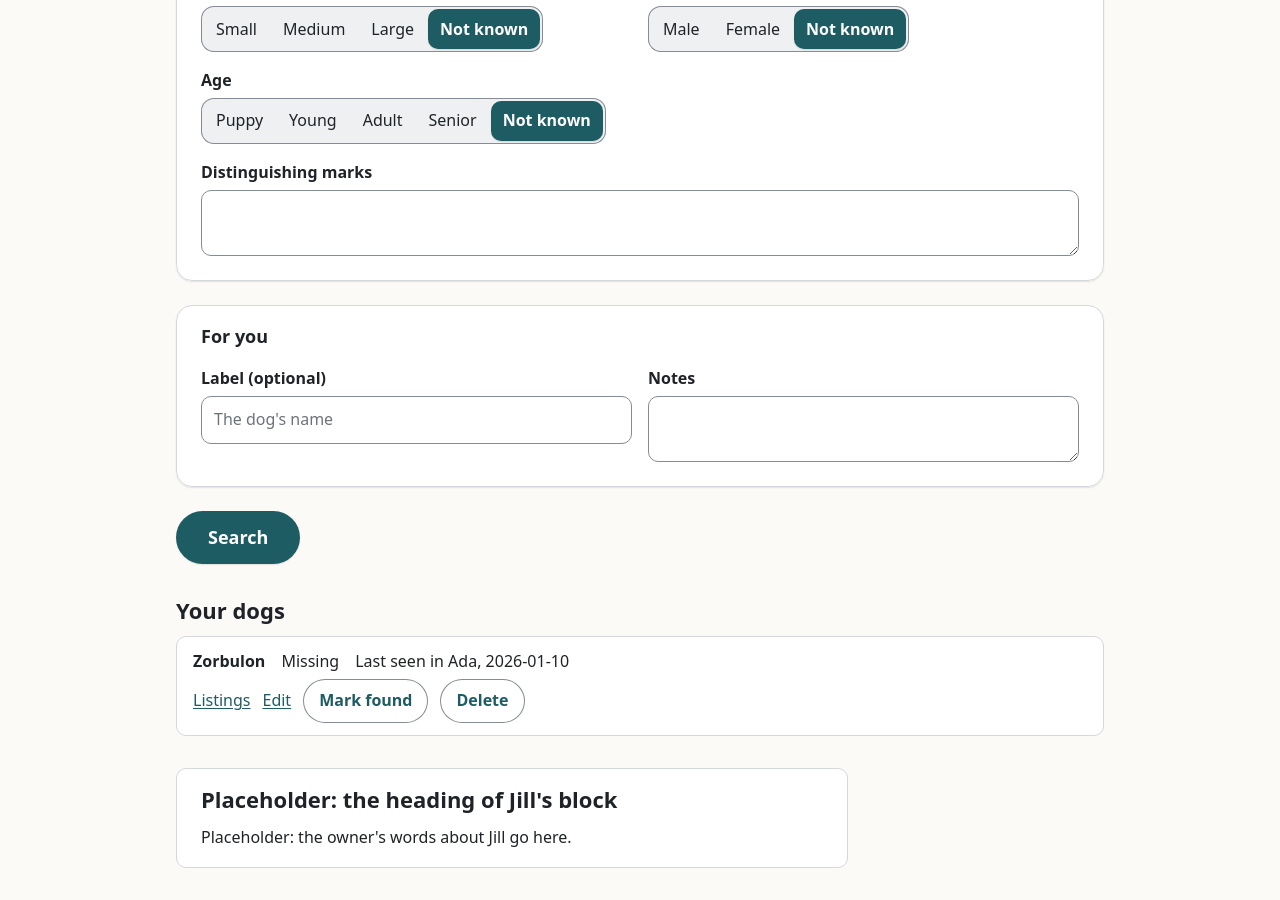
Test: Find a dog › lists missing and found dogs, and marks one found
(page scrolled)
Click the button "Mark found" at (366,701), box [303,679,428,723]
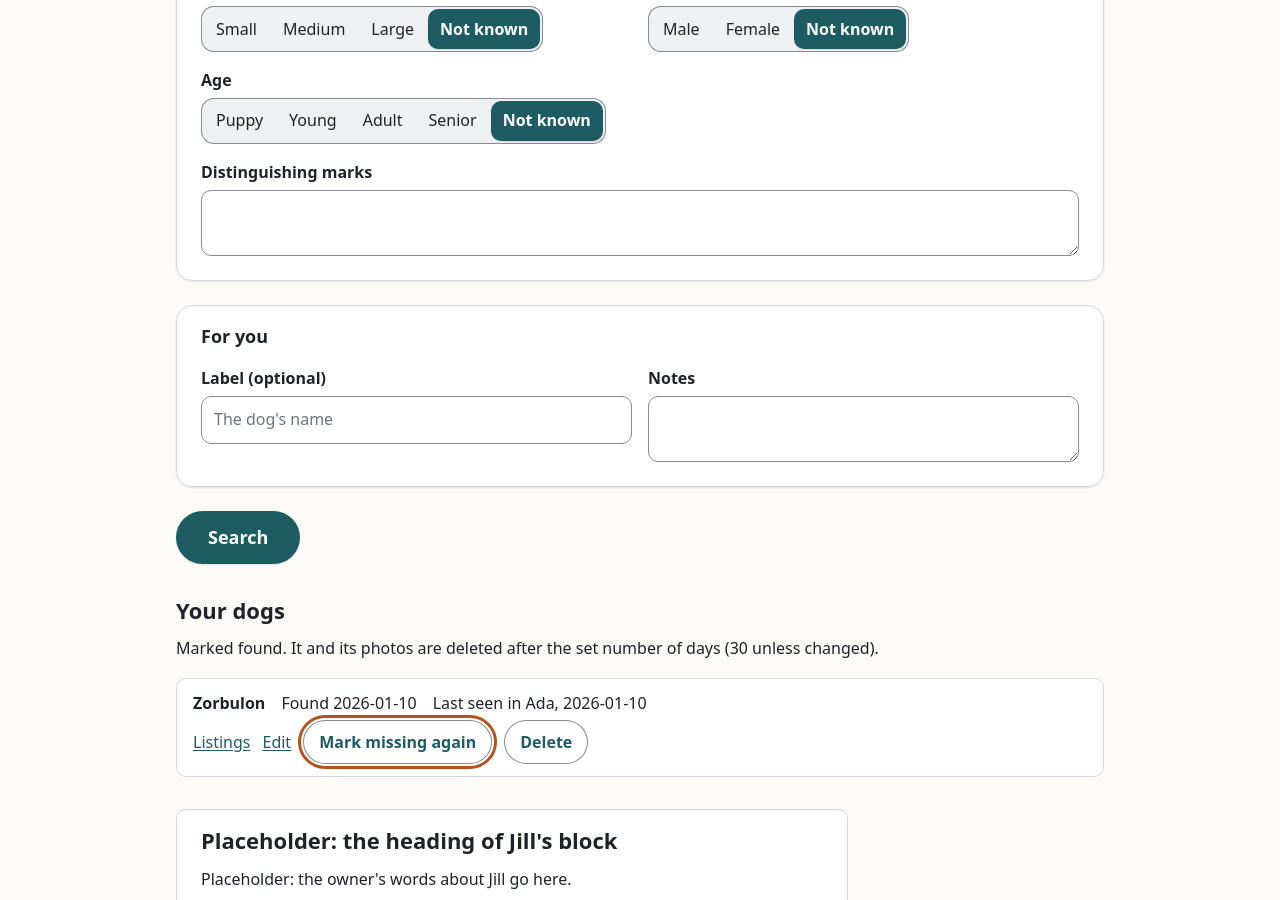
Expected: the text "Marked found" is shown, [176,637,879,659]
Expected: the text "Found 2026-01-10" is shown, [281,691,417,716]
